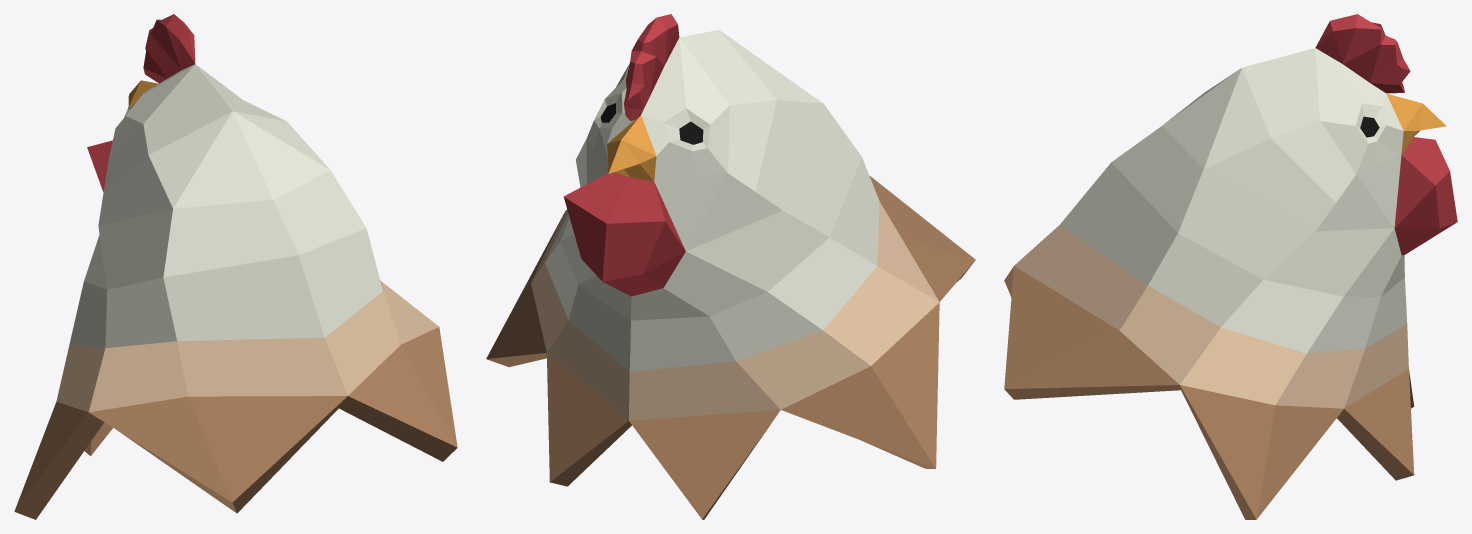
Rendered from ggj2026_mask.fbx.
The picture shows the model from 3 angles, left to right: view 1: azimuth 30°, elevation 25°; view 2: azimuth 150°, elevation 25°; view 3: azimuth 270°, elevation 25°; orthographic projection. The views are drawn at different scales.
Parts seen in each view (by area): view 1: Chicken; view 2: Chicken; view 3: Chicken.
Part boxes in pixels (x1,y1,x2,y2): Chicken: (14, 14, 457, 519); Chicken: (486, 14, 975, 519); Chicken: (1004, 14, 1457, 519).
Bounding box in the file's own units: 107 × 107 × 101.
